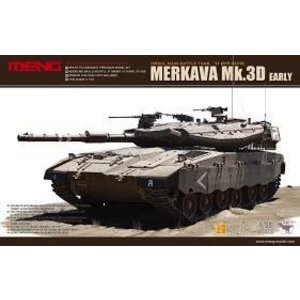Battle Tank: (39, 107, 289, 221)
